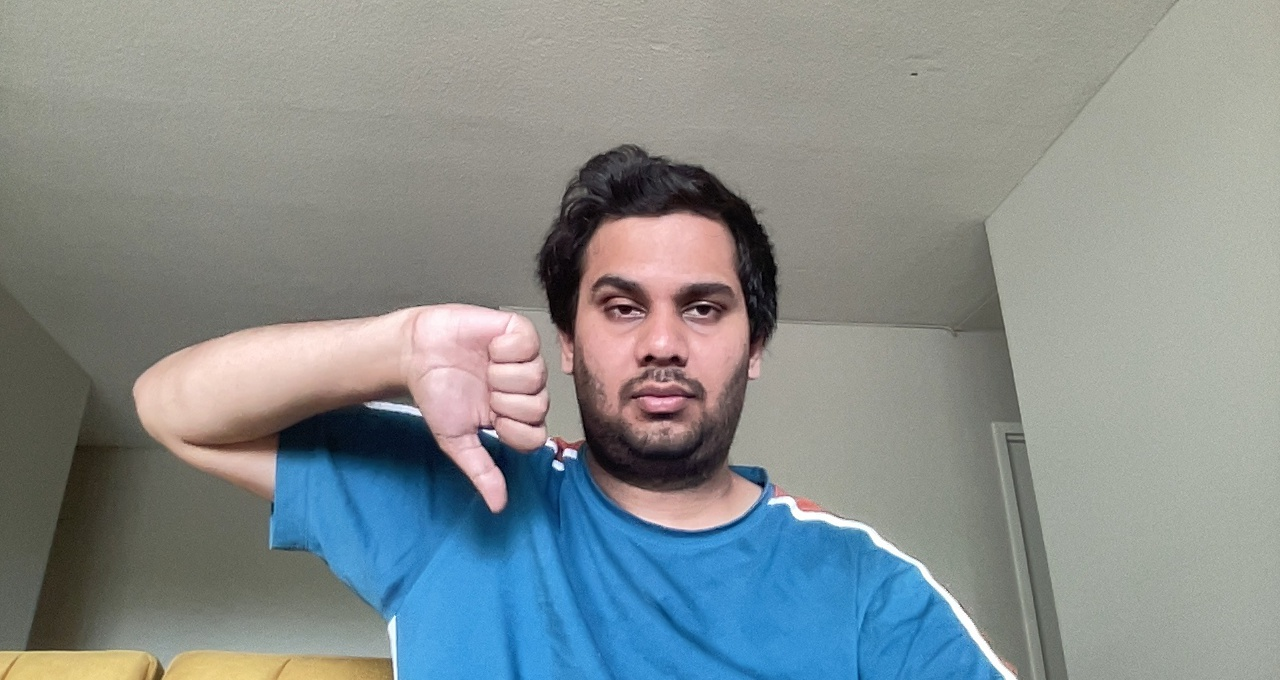thumbsdown: (413, 295, 556, 518)
